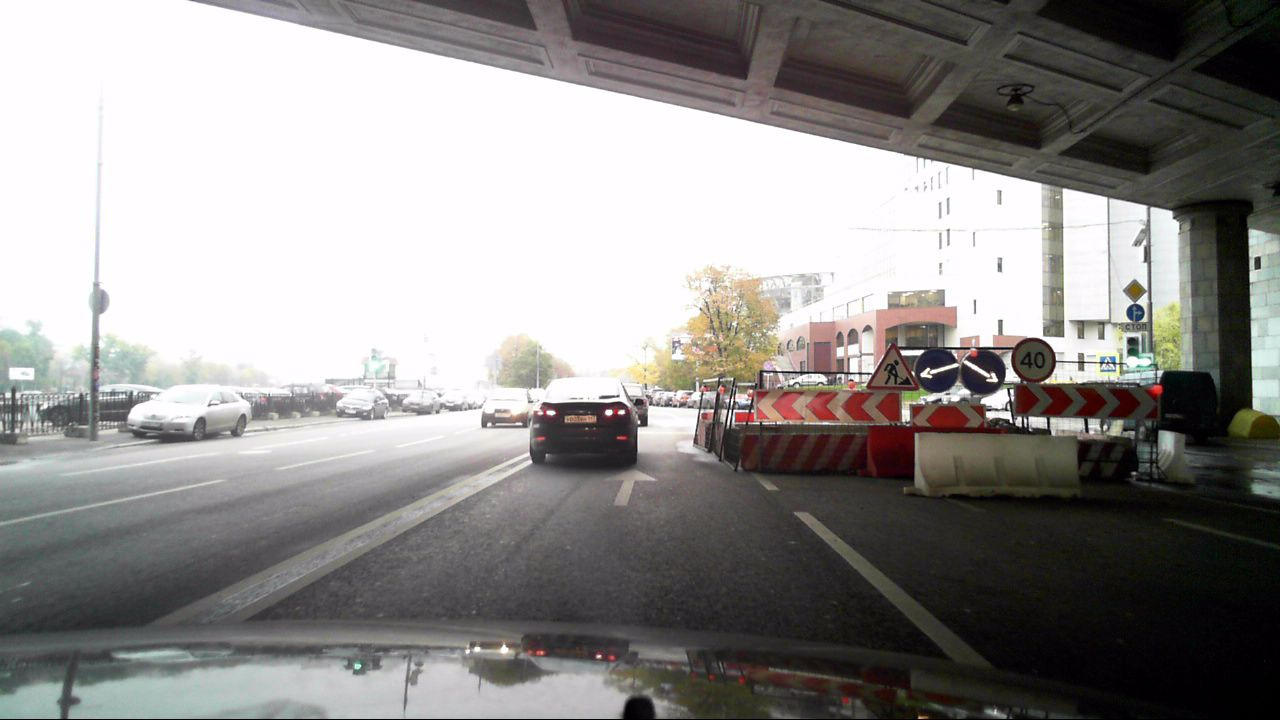speed_warning_40: (1012, 336, 1056, 380)
